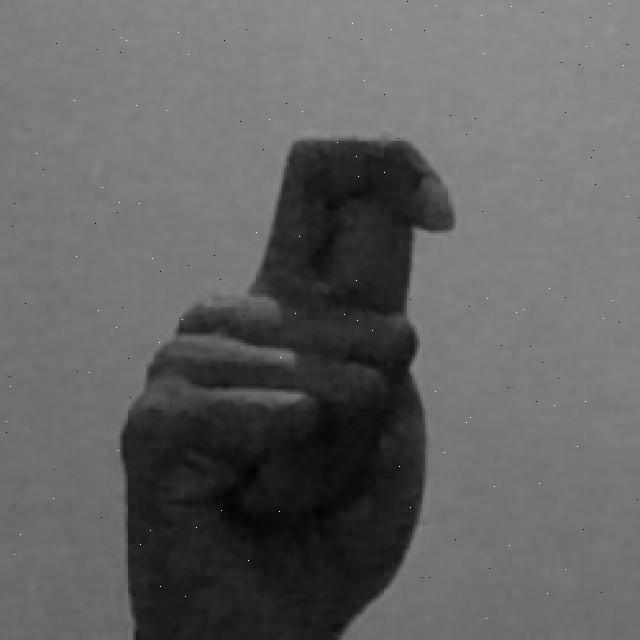T: (115, 124, 462, 640)
